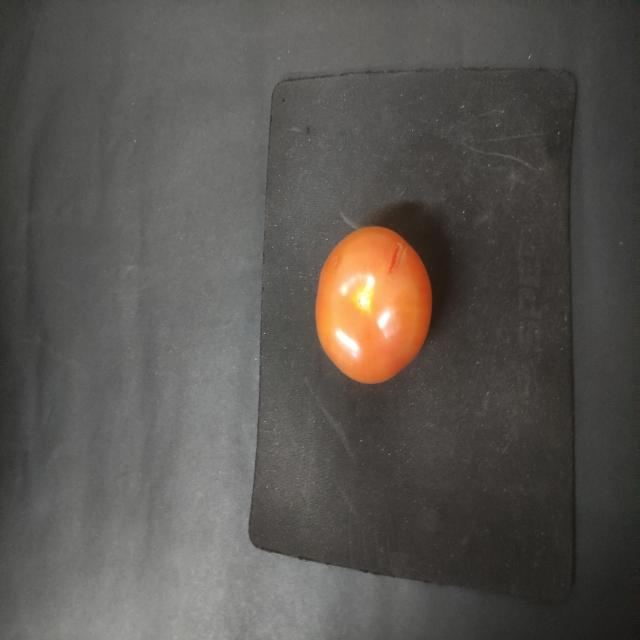sari: (304, 223, 442, 387)
